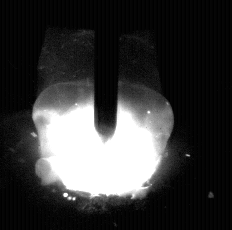arame: (95, 0, 119, 143)
poca: (35, 0, 173, 230)
